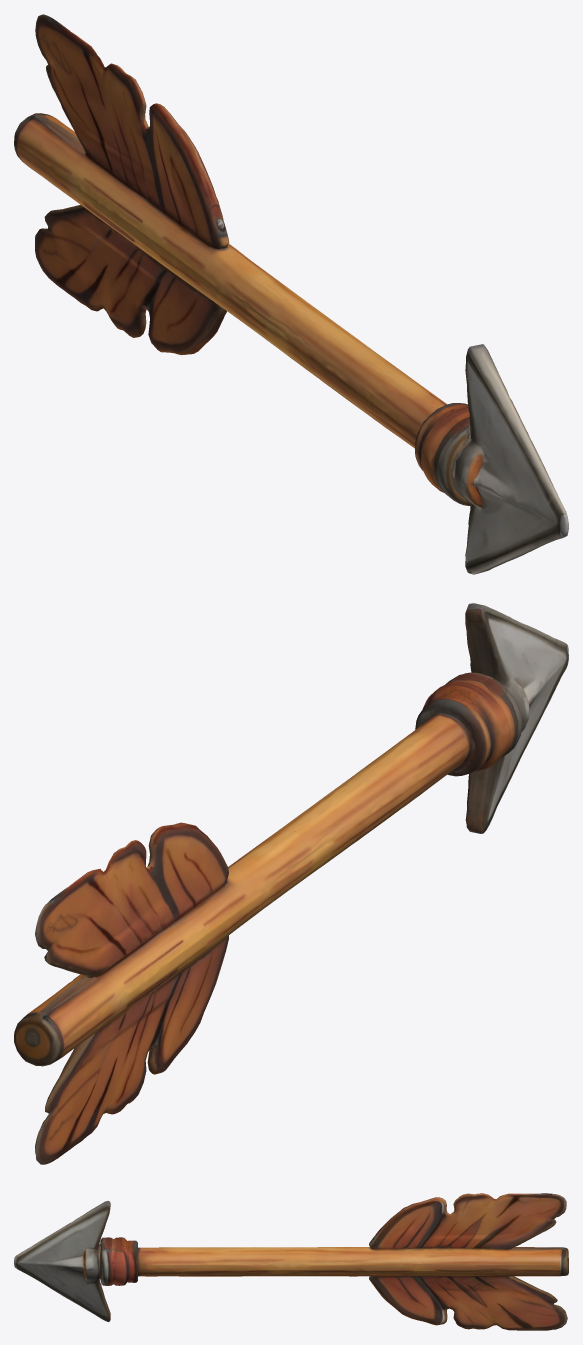
File: proj_arrow.glb
The picture shows the model from 3 angles, top to bottom: view 1: azimuth 30°, elevation 25°; view 2: azimuth 150°, elevation 25°; view 3: azimuth 270°, elevation 25°; orthographic projection. The views are drawn at different scales.
Visible parts, largest first — view 1: Arrow; view 2: Arrow; view 3: Arrow.
Boxes of the visible parts, x1,y1,x2,y2 form: Arrow: (14, 14, 568, 574); Arrow: (14, 603, 568, 1164); Arrow: (14, 1193, 568, 1330).
Bounding box in the file's own units: 0.178 × 0.5469 × 2.
1 material, 1 textured.
